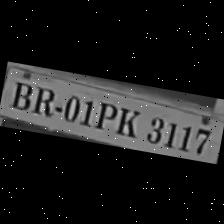0: (57, 88, 84, 122)
1: (156, 110, 182, 148), (76, 93, 96, 126), (174, 116, 190, 152)
3: (140, 109, 168, 146)
7: (186, 120, 212, 154)
B: (5, 76, 35, 110)
K: (110, 100, 142, 139)
P: (90, 96, 118, 132)
R: (28, 82, 58, 116)
